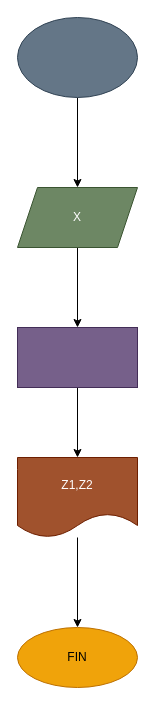
Some shapes in this 155 by 705 pixel diagram are drawn without their labels. Each missing label, with the centre of its shape:
INICIO: the point at 77,57
Z1 = 2π * X Z2 = π * (X**2): the point at 77,357
